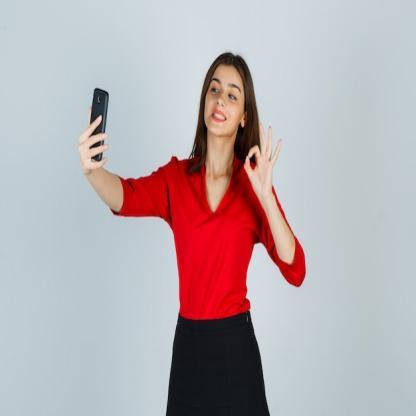ok: (243, 118, 285, 198)
